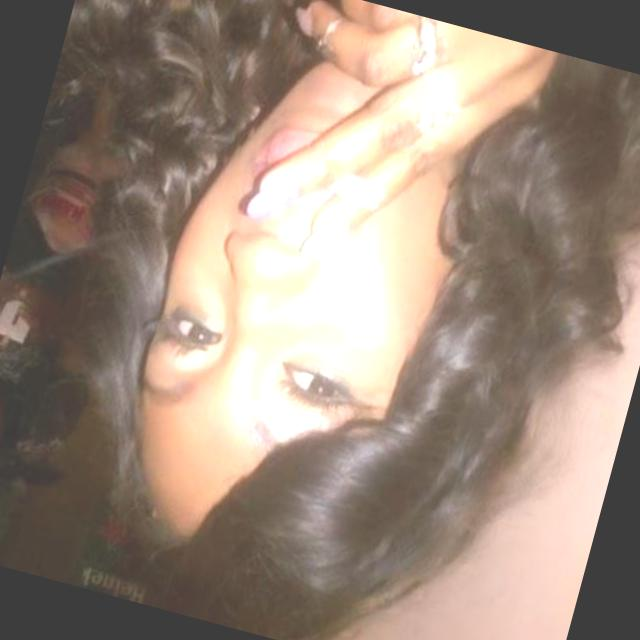cigarette: (290, 147, 418, 237)
